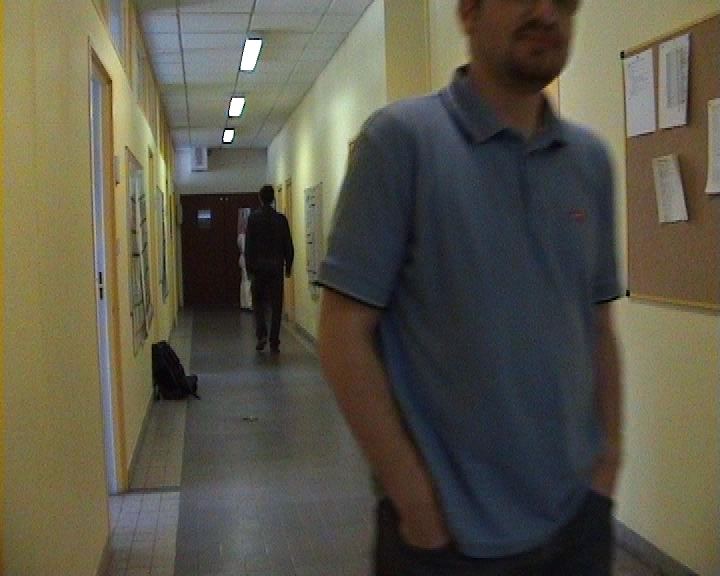leave bag unattended: (125, 329, 215, 427)
